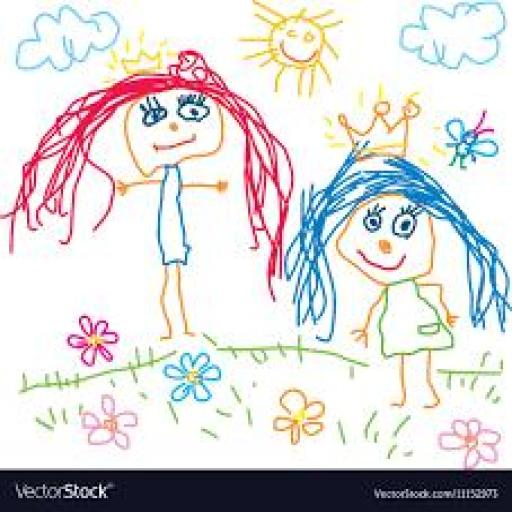person: (5, 42, 294, 342), (284, 138, 512, 409)
